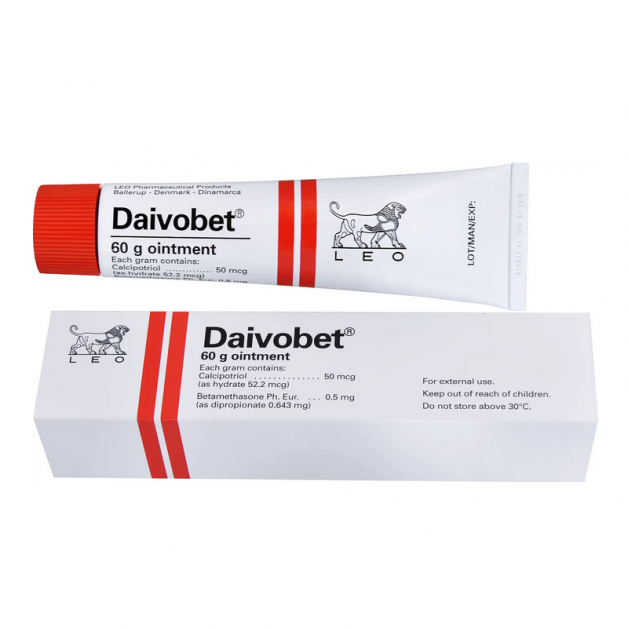Medicine: (33, 302, 608, 493), (27, 148, 545, 313)
